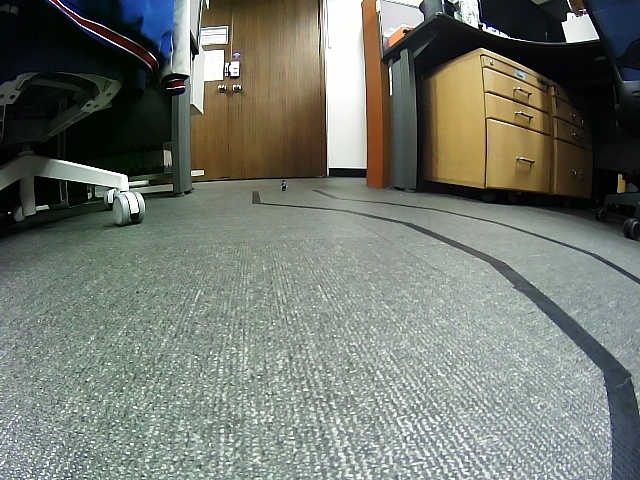person: (279, 179, 288, 192)
